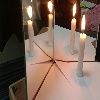fire: (81, 15, 86, 36)
